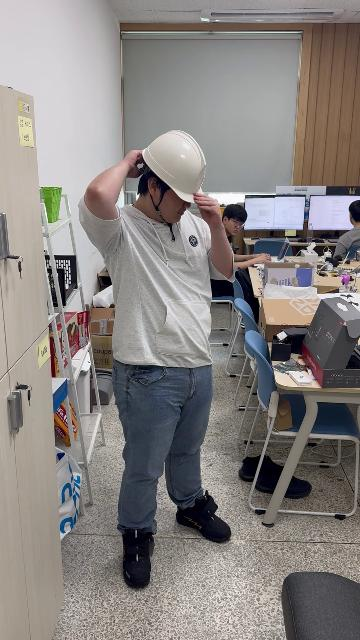helmet_worn: (142, 130, 207, 201)
shoe_not_worn: (240, 455, 310, 496)
shoe_worn: (175, 490, 232, 542), (121, 529, 155, 588)
vest_not_worn: (103, 206, 218, 377)
